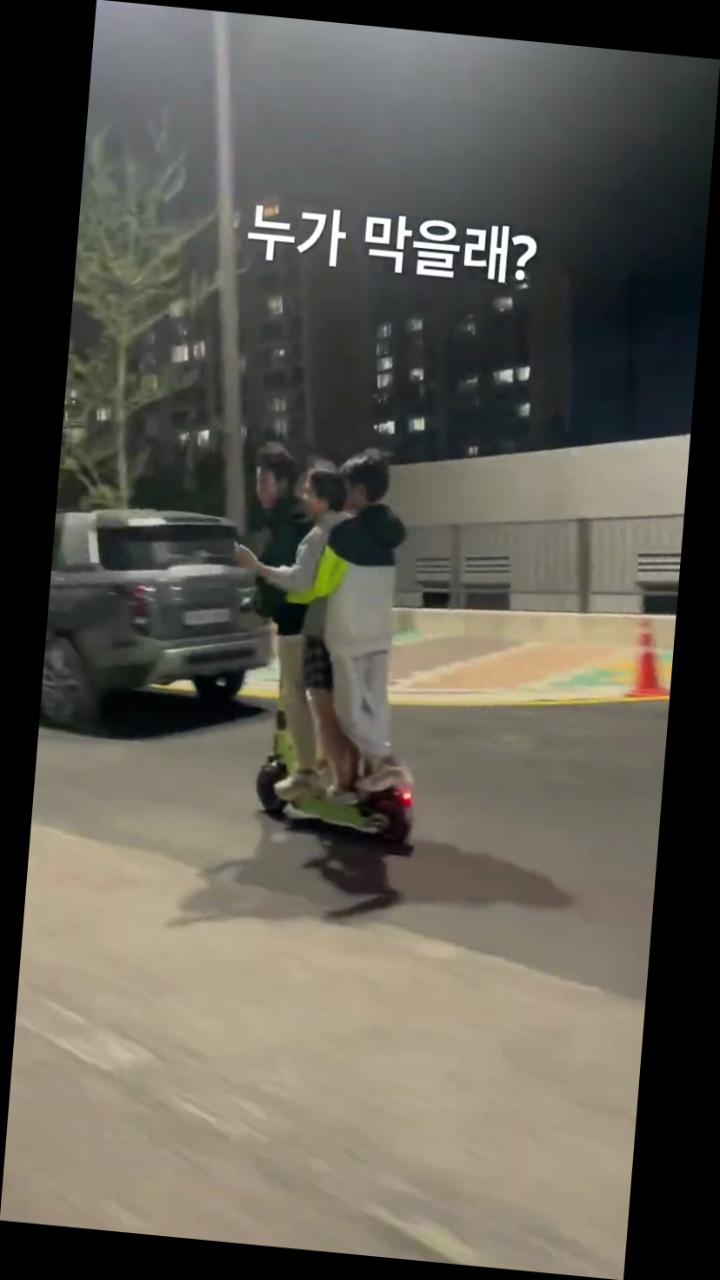multiple: (210, 434, 455, 862)
